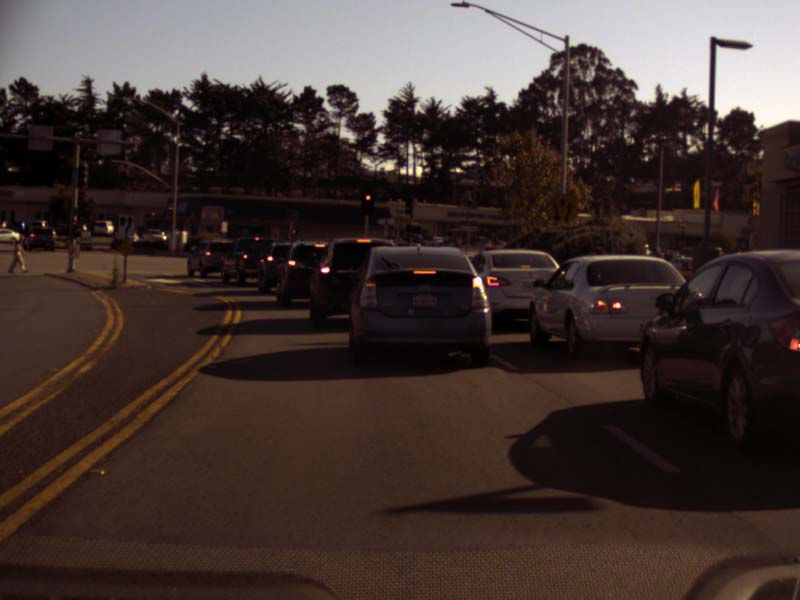Red: (361, 189, 373, 214), (167, 205, 172, 219)
